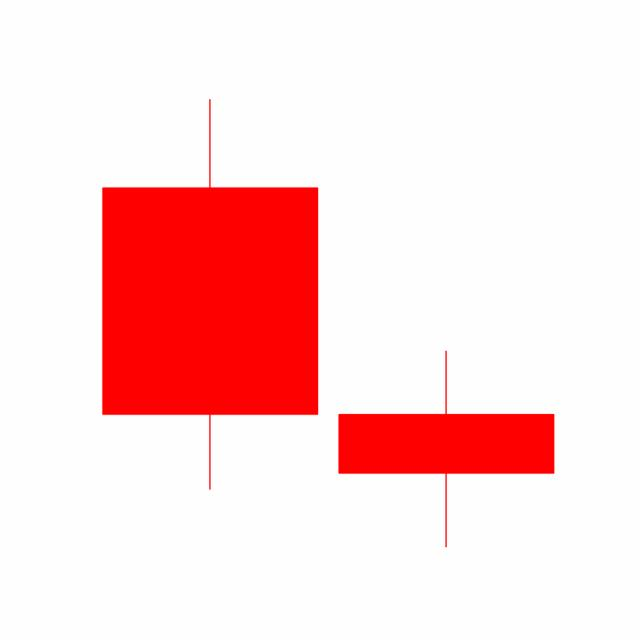Spinning Top: (327, 348, 565, 549)
